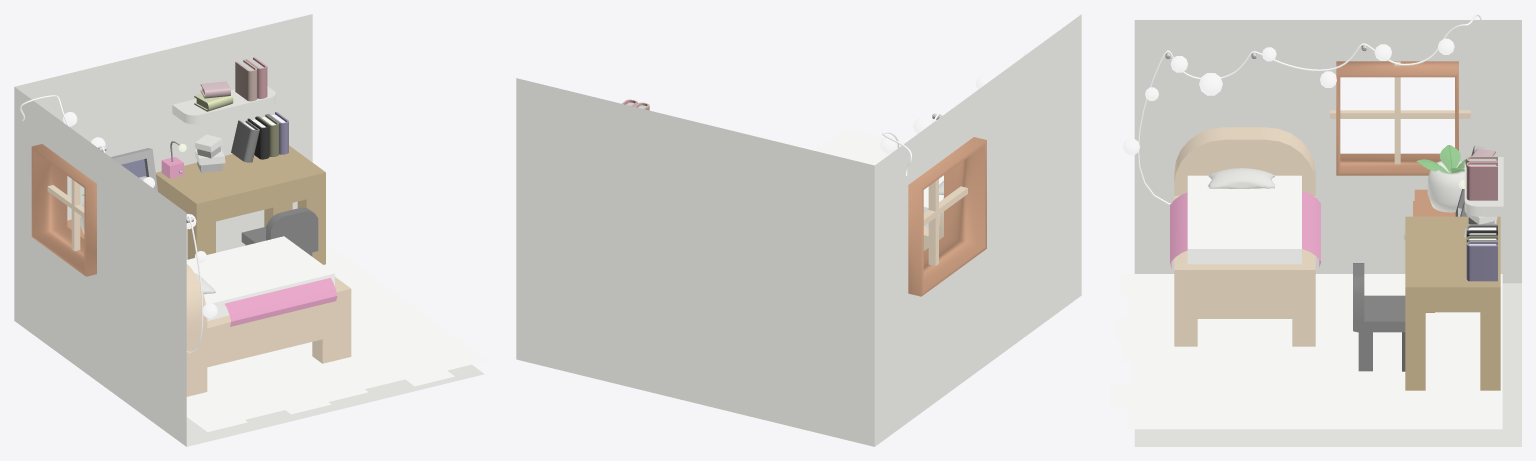
The model's file is room.glb.
3 views of the same model, side by side, from view 1: azimuth 30°, elevation 25°; view 2: azimuth 150°, elevation 25°; view 3: azimuth 270°, elevation 25° (orthographic). The views are drawn at different scales.
Visible parts, largest first — view 1: Cube, Cube.001, Cube.006, Cube.002, Cube.003, Cube.025, Cube.004, Cube.009, Cube.016, Cube.014, Cube.017, Cube.021 (+6 smaller); view 2: Cube, Cube.025, Cube.003, Cube.031; view 3: Cube, Cube.001, Cube.002, Cube.006, Cube.003, Cube.025, Cube.009, Cube.004, Circle, Cube.020, Cube.022, Cube.005 (+7 smaller).
Part boxes in pixels (<box>): Cube: <box>14,14,484,446</box>; Cube.001: <box>186,243,487,431</box>; Cube.006: <box>155,145,325,264</box>; Cube.002: <box>186,264,351,396</box>; Cube.003: <box>186,236,334,320</box>; Cube.025: <box>31,144,96,276</box>; Cube.004: <box>225,278,337,326</box>; Cube.009: <box>241,207,318,253</box>; Cube.016: <box>172,86,275,124</box>; Cube.014: <box>111,148,157,191</box>; Cube.017: <box>231,120,259,162</box>; Cube.021: <box>235,59,257,101</box>; Cube: <box>516,14,1081,446</box>; Cube.025: <box>908,137,986,296</box>; Cube.003: <box>816,128,943,227</box>; Cube.031: <box>928,179,938,265</box>; Cube: <box>1134,20,1521,446</box>; Cube.001: <box>1110,274,1502,429</box>; Cube.002: <box>1174,127,1315,346</box>; Cube.006: <box>1405,216,1500,390</box>; Cube.003: <box>1187,175,1301,264</box>; Cube.025: <box>1336,61,1458,175</box>; Cube.009: <box>1353,263,1405,332</box>; Cube.004: <box>1170,190,1320,268</box>; Circle: <box>1427,161,1464,212</box>; Cube.020: <box>1466,241,1497,281</box>; Cube.022: <box>1466,161,1497,200</box>; Cube.005: <box>1208,168,1274,188</box>.
Size of the model in its own units: 4.17 by 3.06 by 4.25.
35 materials, 1 textured.
